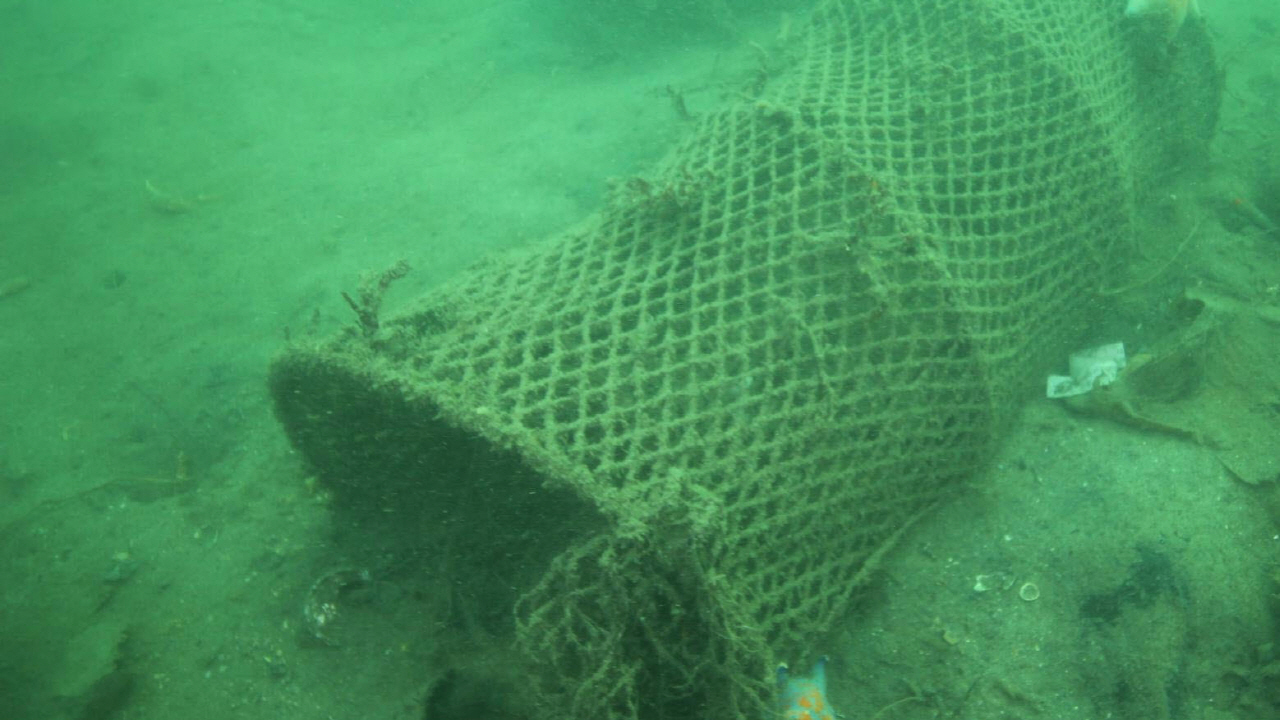spring fish trap: (265, 1, 1222, 720)
